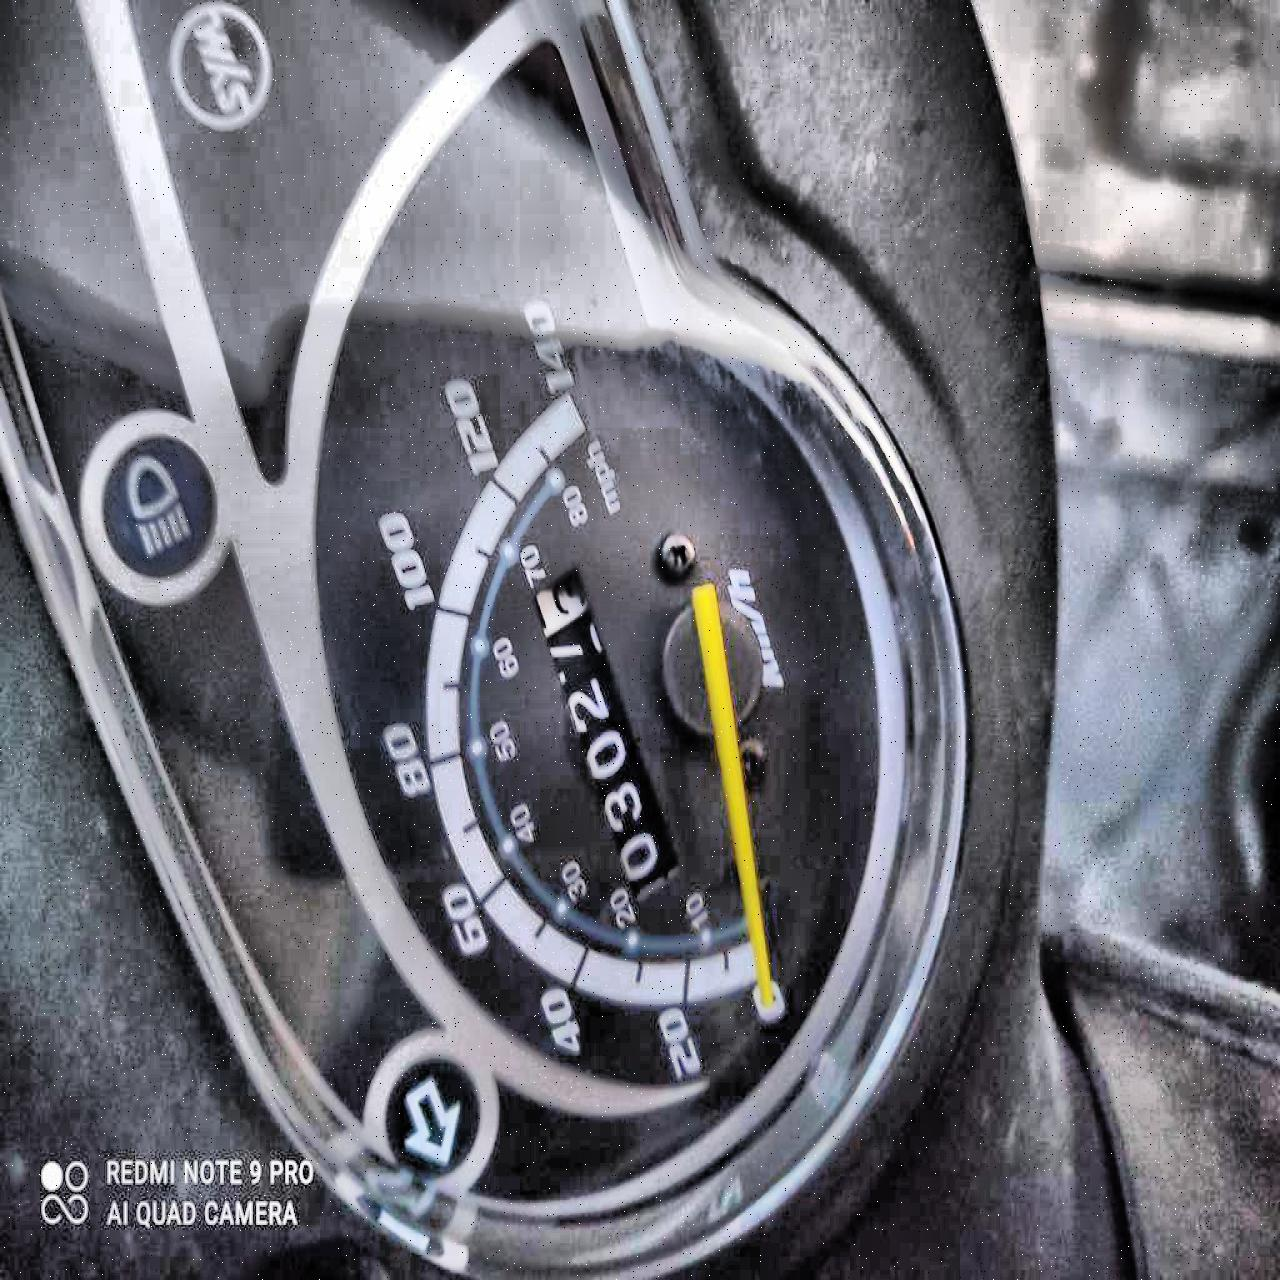0: (586, 727, 625, 777), (618, 832, 659, 877), (560, 857, 581, 880), (611, 886, 628, 904)
2: (567, 676, 608, 729)
3: (605, 781, 640, 829), (549, 568, 585, 613), (566, 877, 585, 899)
7: (545, 639, 585, 682), (526, 565, 545, 588)
odometer: (525, 557, 682, 906)
